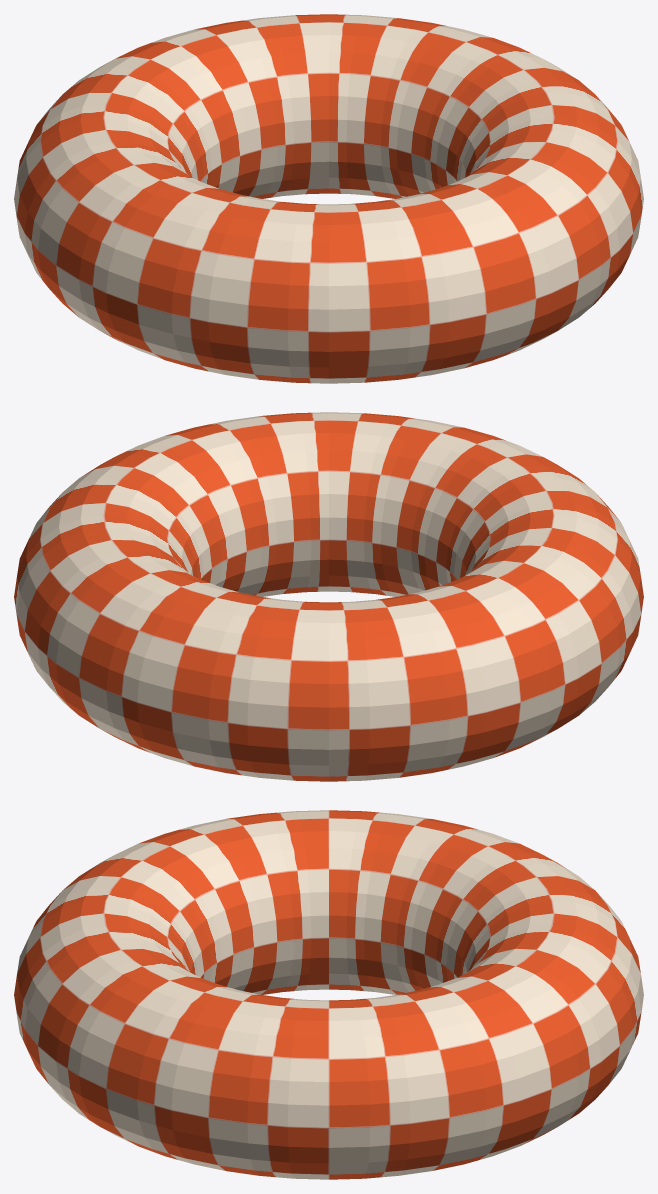
3 renders of one model, top to bottom at view 1: azimuth 30°, elevation 25°; view 2: azimuth 150°, elevation 25°; view 3: azimuth 270°, elevation 25°, orthographic.
Bounding box in the file's own units: 2.8 × 0.8 × 2.8.
1 material, 1 textured.
